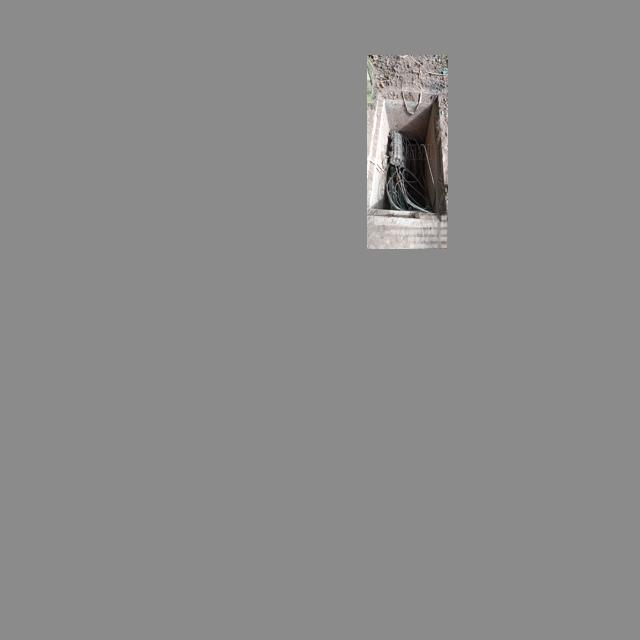lose: (368, 93, 446, 218)
